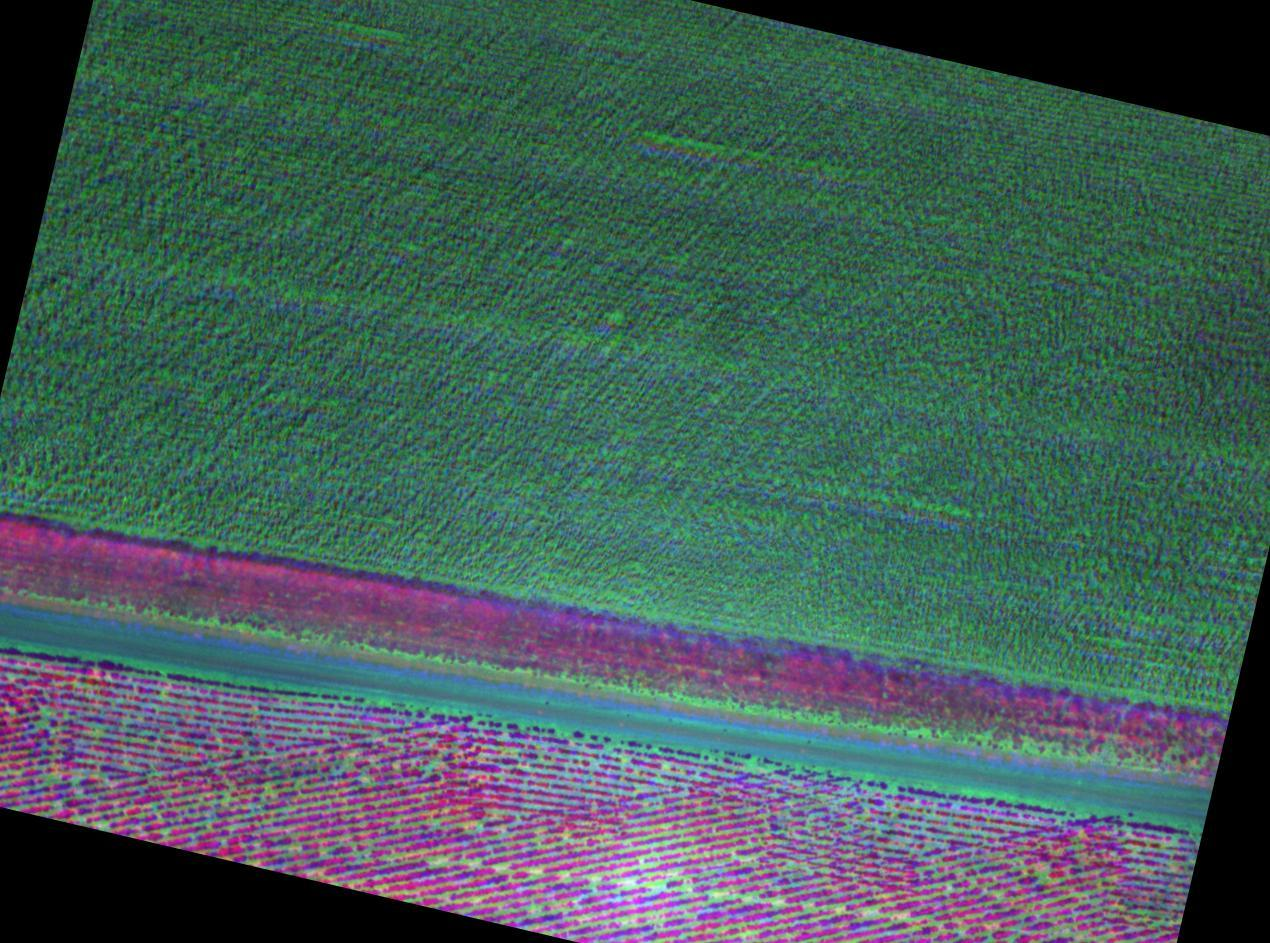dc: (592, 876, 599, 883), (433, 860, 439, 866), (47, 777, 52, 782), (266, 788, 271, 793), (39, 722, 42, 726)
